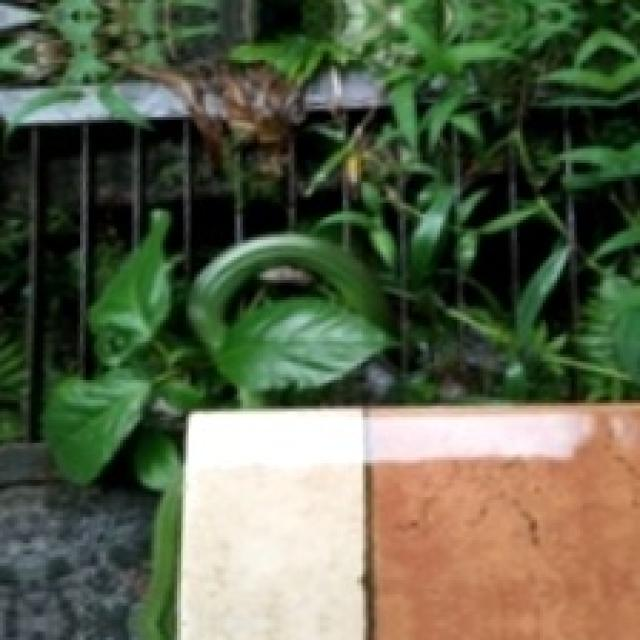red-tailed green ratsnake: (189, 232, 380, 350), (131, 480, 181, 640)
